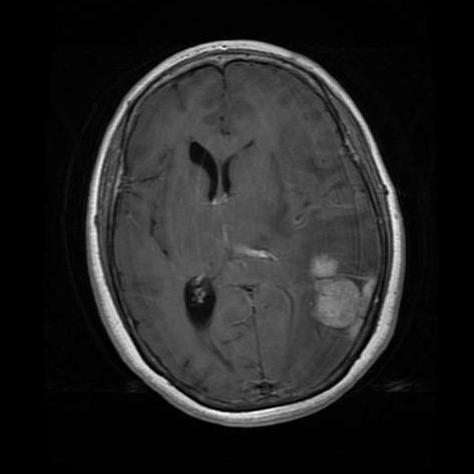Tumour-Pituitary: (288, 253, 381, 349)
